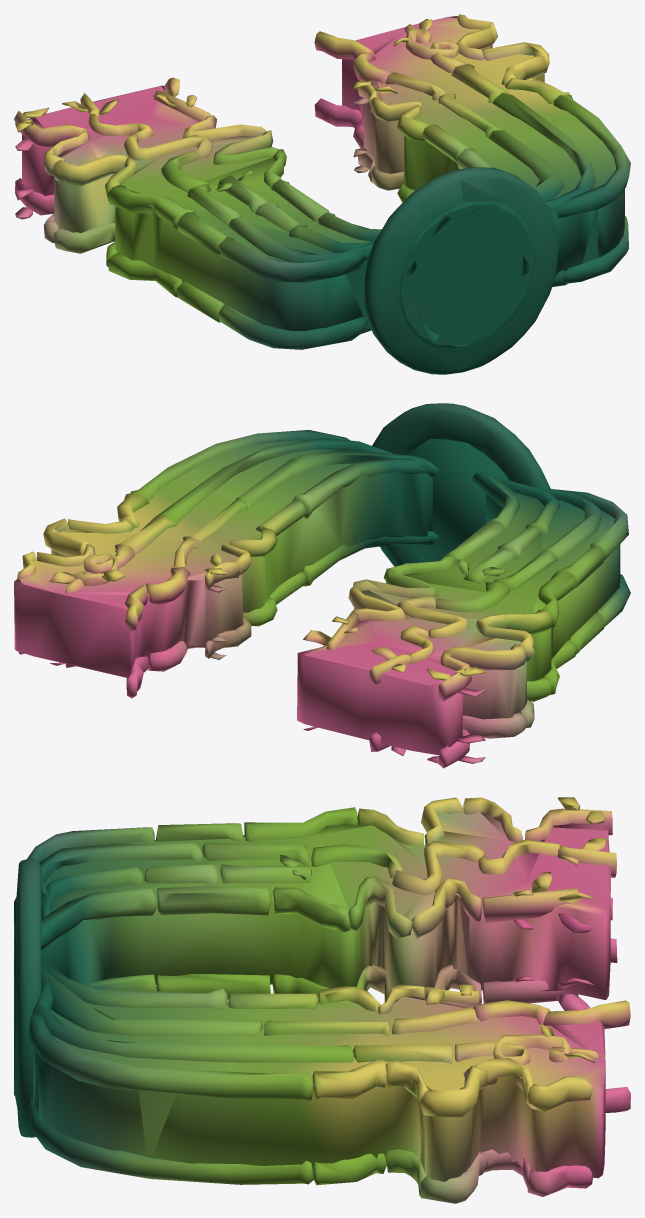
The model's file is mesh_lod_0_e62aacea-18f0-56c2-86c5-de7b3e8ff5c5.glb.
3 renders of one model, top to bottom at view 1: azimuth 30°, elevation 25°; view 2: azimuth 150°, elevation 25°; view 3: azimuth 270°, elevation 25°, orthographic. The views are drawn at different scales.
Visible parts, largest first — view 1: LOD 0_e62aacea-18f0-56c2-86c5-de7b3e8ff5c5; view 2: LOD 0_e62aacea-18f0-56c2-86c5-de7b3e8ff5c5; view 3: LOD 0_e62aacea-18f0-56c2-86c5-de7b3e8ff5c5.
Part boxes in pixels (x1,y1,x2,y2): LOD 0_e62aacea-18f0-56c2-86c5-de7b3e8ff5c5: [14, 14, 630, 374]; LOD 0_e62aacea-18f0-56c2-86c5-de7b3e8ff5c5: [14, 403, 630, 768]; LOD 0_e62aacea-18f0-56c2-86c5-de7b3e8ff5c5: [14, 797, 630, 1203].
Size of the model in its own units: 14.67 by 5.7 by 12.63.
